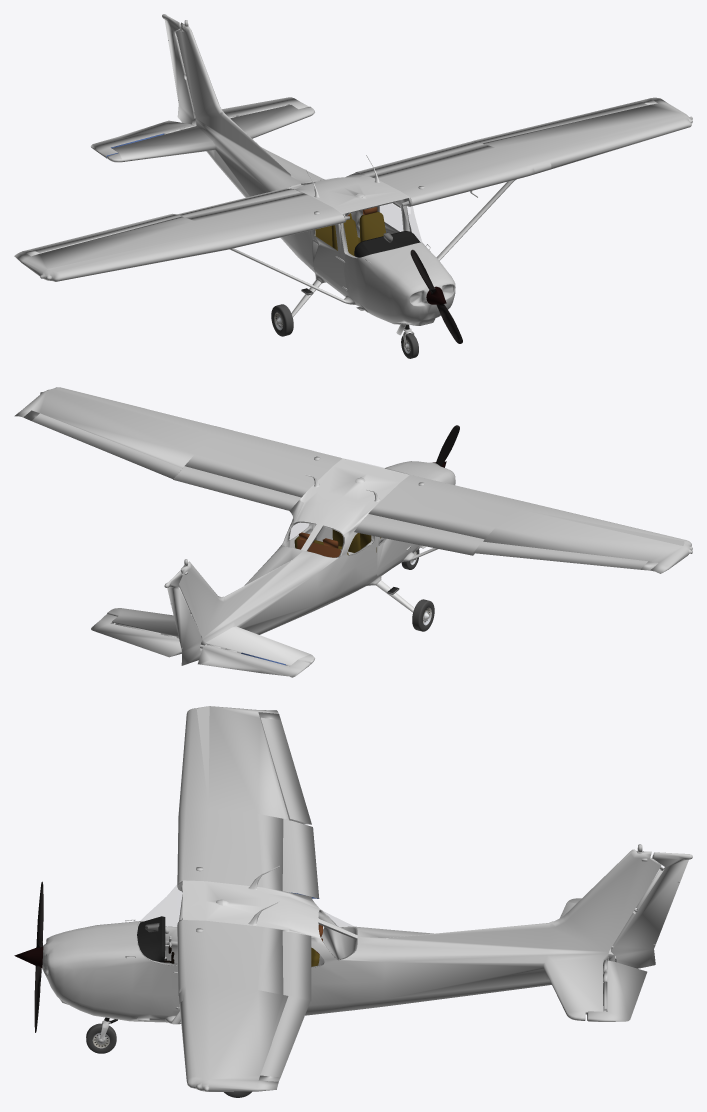
File: cessna172sp.FBX
3 renders of one model, top to bottom at view 1: azimuth 30°, elevation 25°; view 2: azimuth 150°, elevation 25°; view 3: azimuth 270°, elevation 25°, orthographic. The views are drawn at different scales.
Parts seen in each view (by area): view 1: cessna172sp, Lflap, Rflap, rudder, Relevator, Laileron, Raileron, prop, Lelevator, Rwheel, frontWindshield; view 2: cessna172sp, Rflap, Lflap, Raileron, Laileron, Relevator, rudder, Lelevator, Rwheel; view 3: cessna172sp, Rflap, rudder, Lflap, Raileron, Lelevator, Laileron, frontWindshield, prop, Fwheel.
Boxes of the visible parts, <box> form: cessna172sp: <box>14,20,692,325</box>; Lflap: <box>357,141,494,178</box>; Rflap: <box>177,188,308,220</box>; rudder: <box>162,14,194,124</box>; Relevator: <box>90,120,193,158</box>; Laileron: <box>474,101,647,142</box>; Raileron: <box>31,213,180,252</box>; prop: <box>410,249,462,343</box>; Lelevator: <box>222,97,308,117</box>; Rwheel: <box>271,304,293,336</box>; frontWindshield: <box>341,197,421,253</box>; cessna172sp: <box>14,387,692,666</box>; Rflap: <box>354,505,494,555</box>; Lflap: <box>173,454,308,510</box>; Raileron: <box>473,541,647,569</box>; Laileron: <box>32,413,181,478</box>; Relevator: <box>198,644,310,677</box>; rudder: <box>164,570,202,665</box>; Lelevator: <box>91,614,181,657</box>; Rwheel: <box>412,599,434,631</box>; cessna172sp: <box>42,706,663,1091</box>; Rflap: <box>258,814,319,898</box>; rudder: <box>611,852,692,968</box>; Lflap: <box>258,927,311,1000</box>; Raileron: <box>261,717,311,824</box>; Lelevator: <box>587,960,647,1021</box>; Laileron: <box>260,995,310,1077</box>; frontWindshield: <box>141,881,182,960</box>; prop: <box>34,881,43,1032</box>; Fwheel: <box>86,1023,116,1053</box>.
Size of the model in its own units: 439 by 112 by 329.
